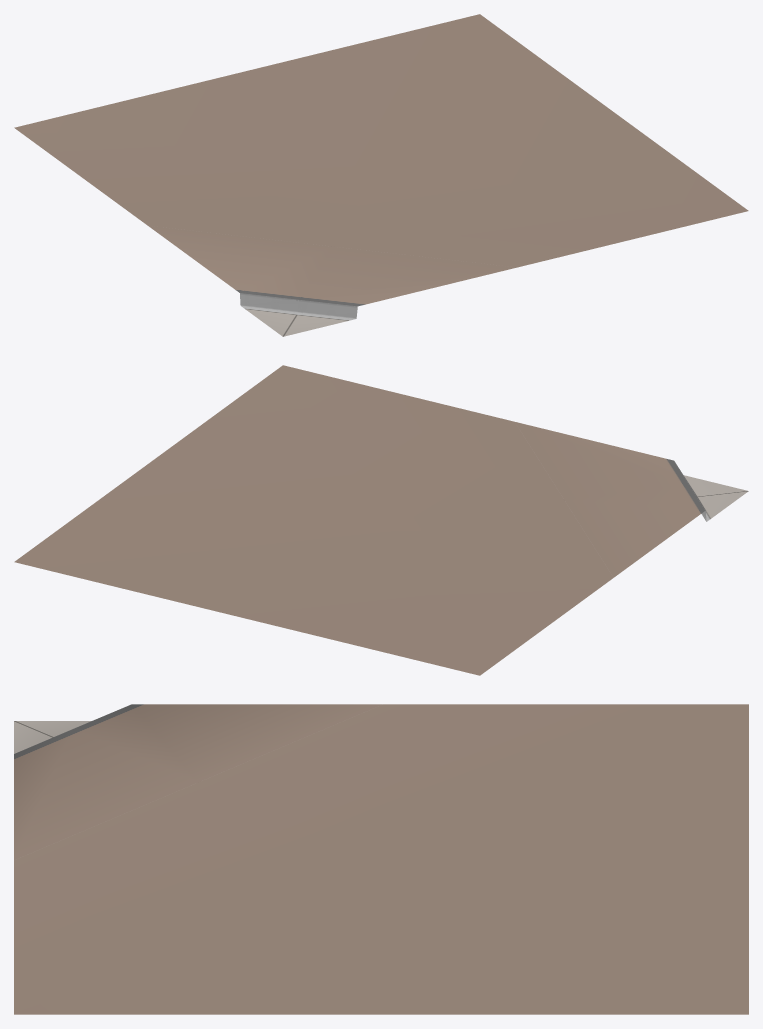
Rendered from island_slant_edge.fbx.
3 renders of one model, top to bottom at view 1: azimuth 30°, elevation 25°; view 2: azimuth 150°, elevation 25°; view 3: azimuth 270°, elevation 25°, orthographic. The views are drawn at different scales.
Parts seen in each view (by area): view 1: island_tile_slant2; view 2: island_tile_slant2; view 3: island_tile_slant2.
Part boxes in pixels (x1,y1,x2,y2): island_tile_slant2: [14, 14, 748, 336]; island_tile_slant2: [14, 365, 748, 675]; island_tile_slant2: [14, 704, 748, 1014].
Size of the model in its own units: 4 by 0.1 by 4.
